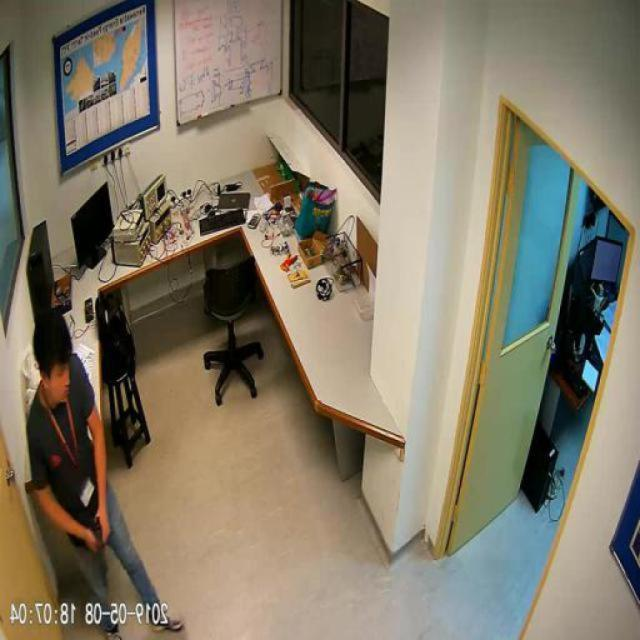pistol: (95, 515, 113, 581)
